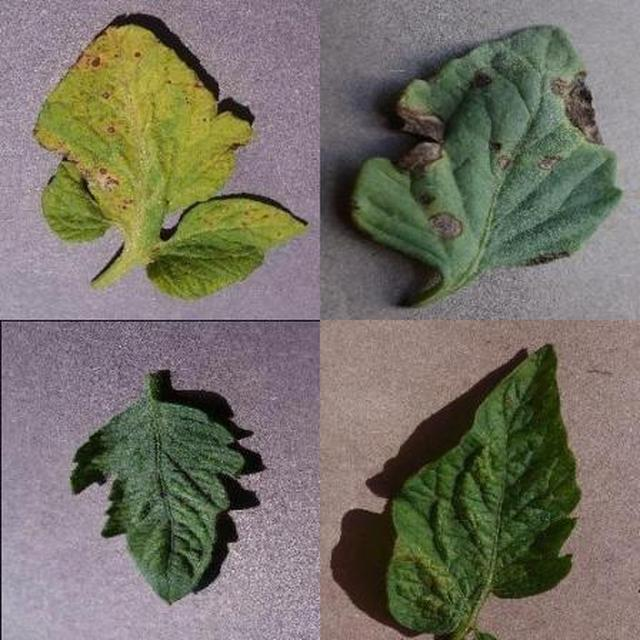Septoria Leaf: (207, 153, 640, 640)
